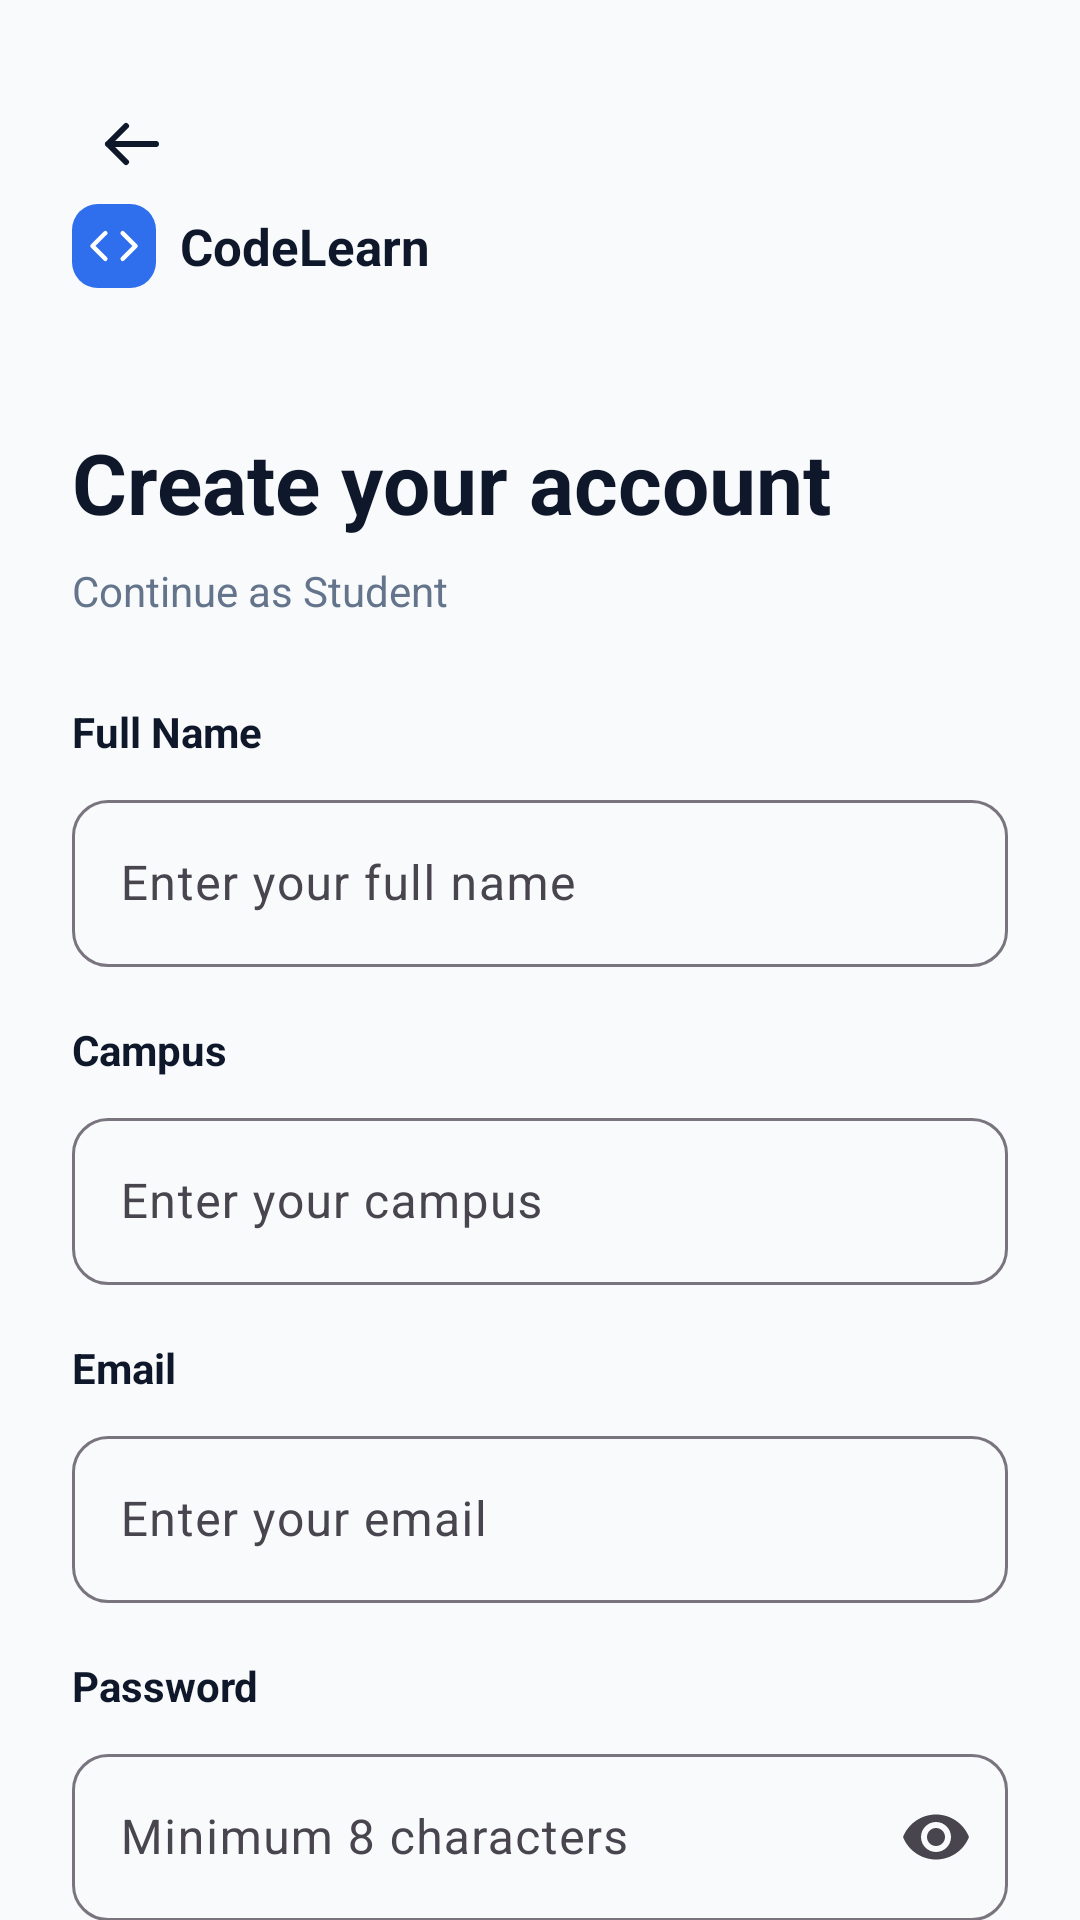

Locate icon controls on the screen. Image size 1080px×1920px, boxes as (x1, y1, x2, y2).
Back: (105, 123, 159, 165)
